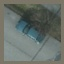car: (15, 19, 46, 45)
